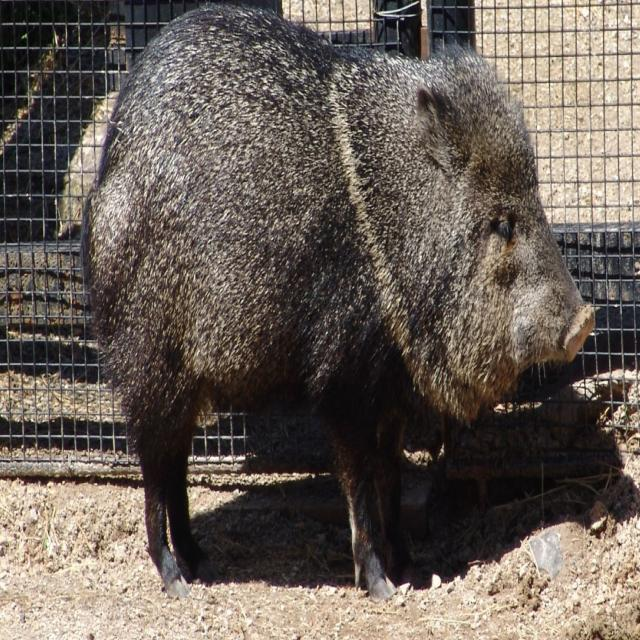pig: (82, 5, 595, 601)
